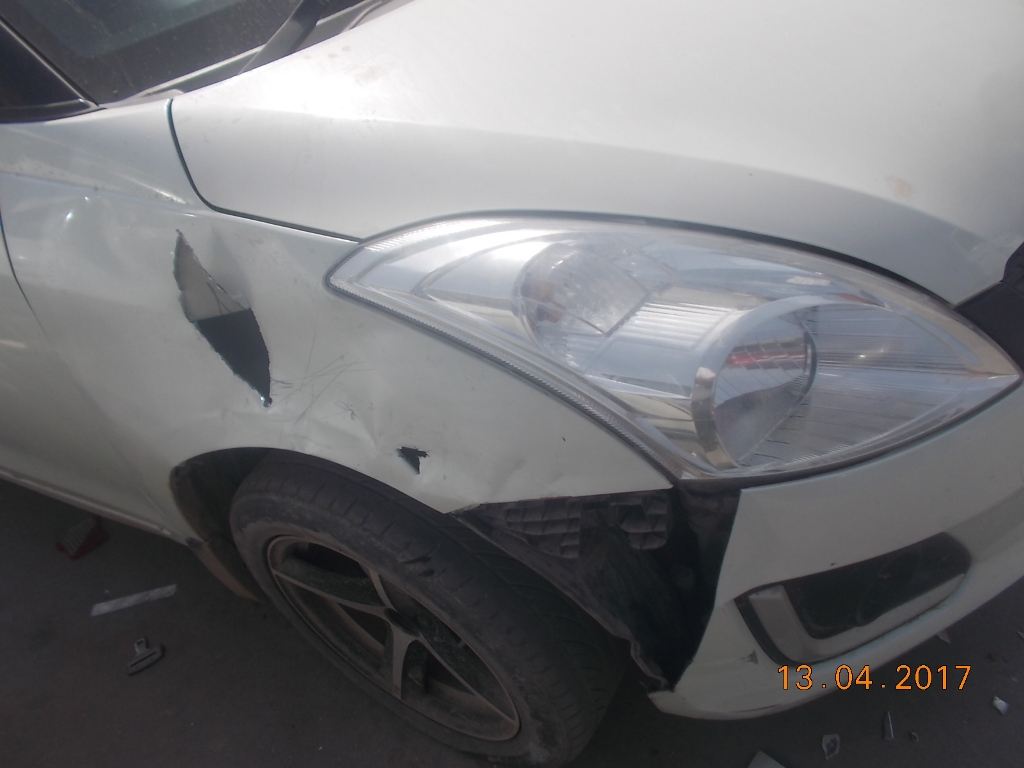Large_dent: (162, 231, 285, 406)
Tear: (389, 424, 435, 478)
